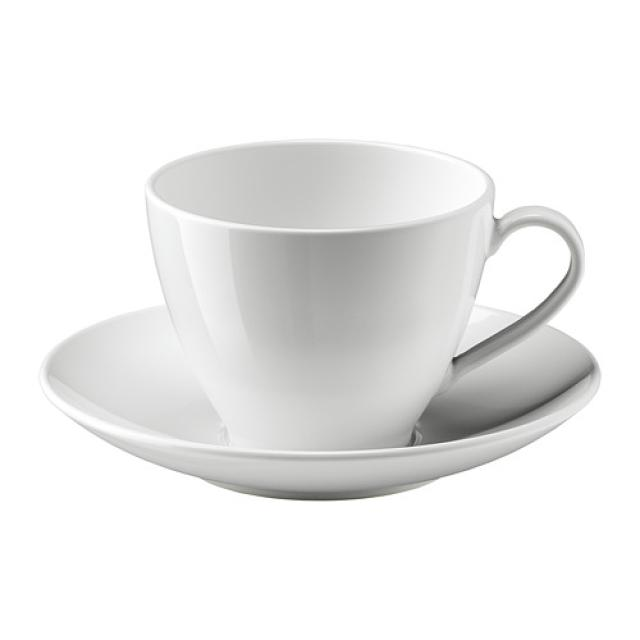Cangkir: (99, 132, 597, 462)
Piring: (13, 283, 624, 517)
